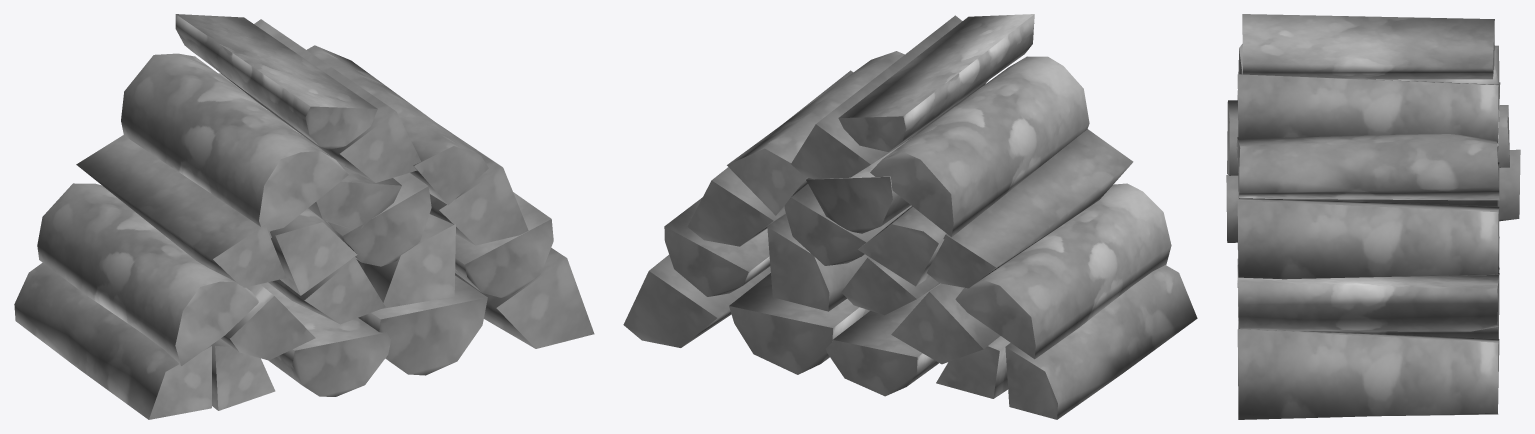
Rendered from SM_Pile_WoodLog_03a.fbx.
The picture shows the model from 3 angles, left to right: view 1: azimuth 30°, elevation 25°; view 2: azimuth 150°, elevation 25°; view 3: azimuth 270°, elevation 25°; orthographic projection. The views are drawn at different scales.
Visible parts, largest first — view 1: SM_Pile_WoodLog_03a_LOD0; view 2: SM_Pile_WoodLog_03a_LOD0; view 3: SM_Pile_WoodLog_03a_LOD0.
Boxes of the visible parts, x1=… form: SM_Pile_WoodLog_03a_LOD0: x1=14, y1=14, x2=594, y2=419; SM_Pile_WoodLog_03a_LOD0: x1=623, y1=14, x2=1197, y2=419; SM_Pile_WoodLog_03a_LOD0: x1=1226, y1=14, x2=1520, y2=419.
Size of the model in its own units: 116 by 70.2 by 74.88.
